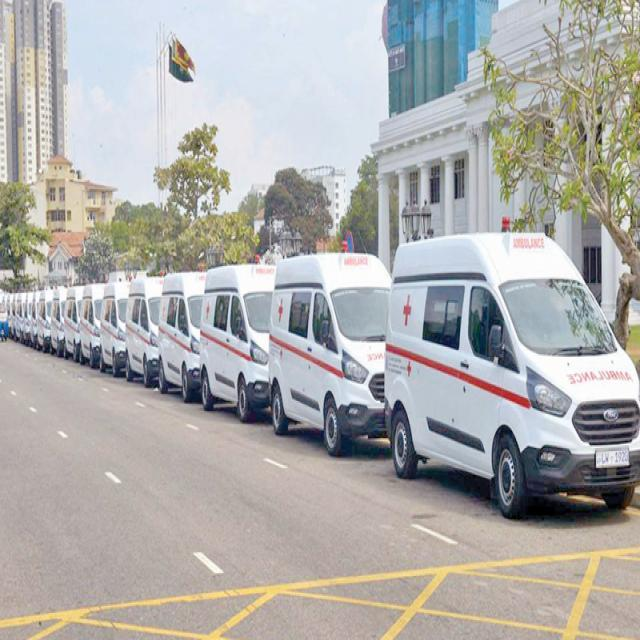emergency-vehicle: (386, 188, 638, 518), (266, 223, 382, 465)
